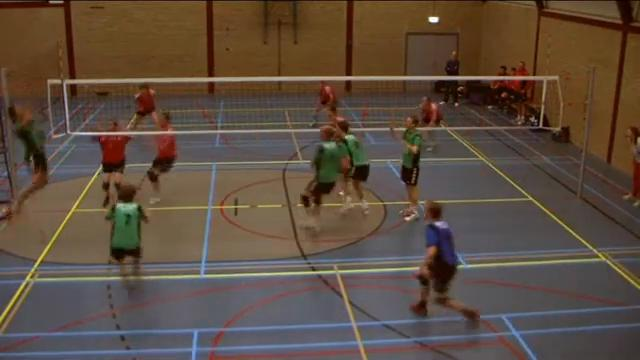Attack: (0, 99, 61, 230)
Player: (411, 202, 478, 321), (301, 125, 348, 229), (106, 184, 147, 279), (337, 118, 369, 214), (147, 112, 176, 203), (93, 135, 130, 206), (400, 116, 421, 221), (127, 84, 159, 128), (310, 81, 337, 126), (419, 97, 442, 126)
